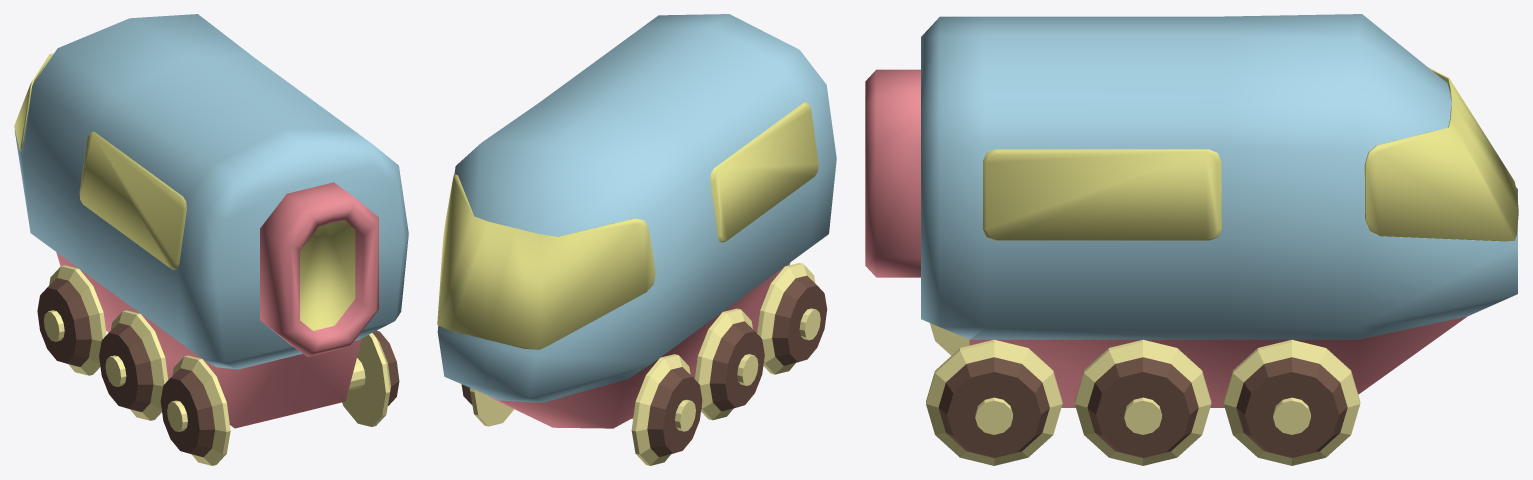
Rendered from train_mellow.fbx.
3 renders of one model, left to right at view 1: azimuth 30°, elevation 25°; view 2: azimuth 150°, elevation 25°; view 3: azimuth 270°, elevation 25°, orthographic. The views are drawn at different scales.
Visible parts, largest first — view 1: Cube.009; view 2: Cube.009; view 3: Cube.009.
Boxes of the visible parts, <box> form: Cube.009: <box>14,14,408,465</box>; Cube.009: <box>437,14,836,465</box>; Cube.009: <box>865,14,1518,465</box>.
Bounding box in the file's own units: 700 × 971 × 1506.
